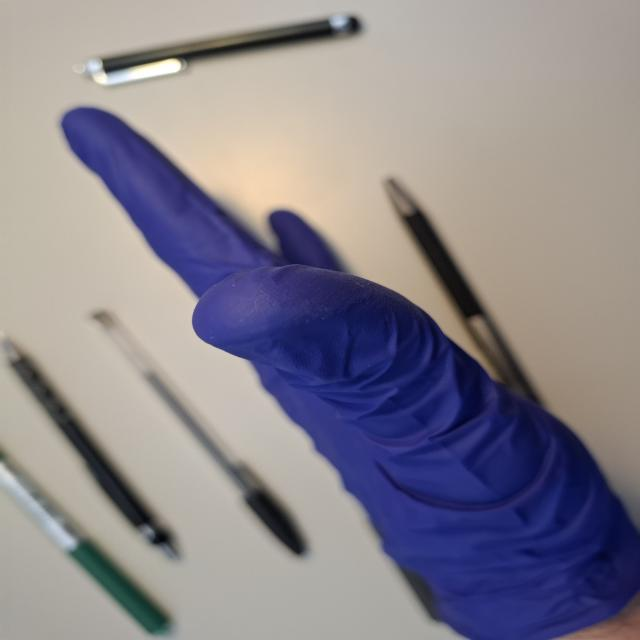glove_on: (53, 100, 640, 629)
